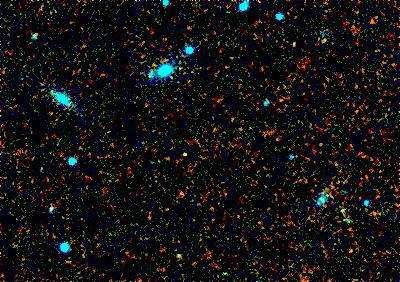star: (171, 134, 201, 164)
